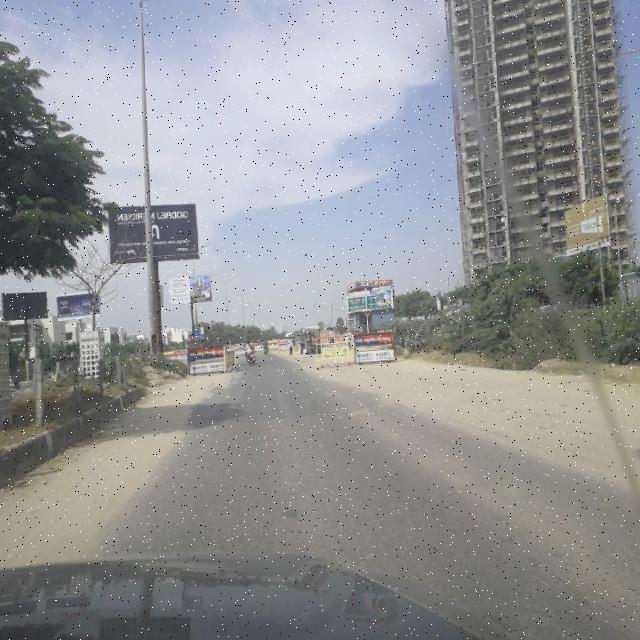D20: (474, 489, 631, 623)
D40: (328, 396, 391, 418)
